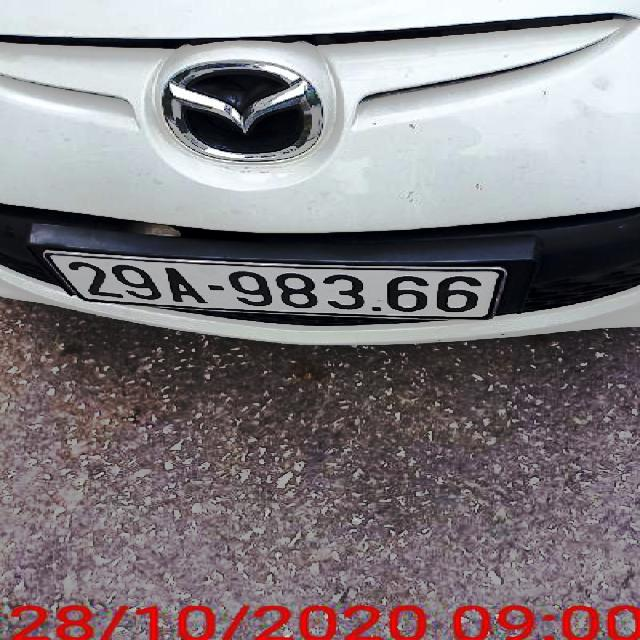license_plate: (52, 253, 509, 319)
